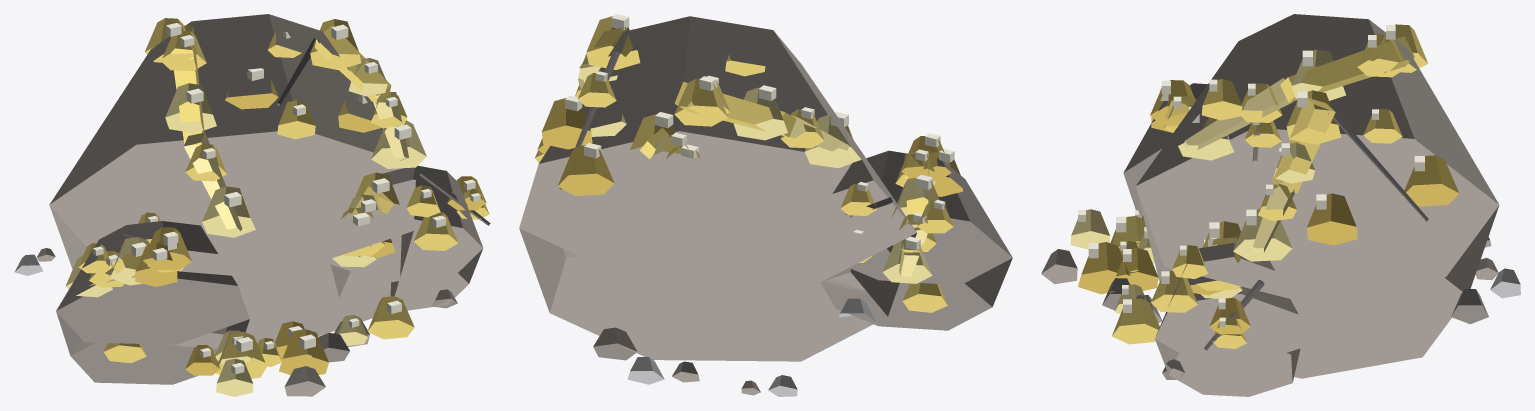
The model's file is gold_1.glb.
The picture shows the model from 3 angles, left to right: view 1: azimuth 30°, elevation 25°; view 2: azimuth 150°, elevation 25°; view 3: azimuth 270°, elevation 25°; orthographic projection. The views are drawn at different scales.
Parts seen in each view (by area): view 1: Boulder#2, Boulder#4, Boulder, Boulder#6, Boulder#3, Boulder#5, Vein#4, Vein, Nugget#8, Nugget#38, Nugget#6, Nugget#4 (+33 smaller); view 2: Boulder#2, Boulder, Boulder#4, Boulder#3, Nugget#12, Nugget#10, Nugget#11, Vein#3, Nugget#8, Nugget#6, Nugget#17, Nugget (+19 smaller); view 3: Boulder#2, Boulder, Boulder#6, Boulder#5, Vein#3, Vein, Nugget#12, Nugget#10, Vein#4, Boulder#4, Nugget#37, Nugget#38 (+26 smaller).
Boxes of the visible parts, x1,y1,x2,y2 form: Boulder#2: (49, 14, 415, 278); Boulder#4: (56, 221, 249, 344); Boulder: (49, 205, 413, 348); Boulder#6: (331, 165, 482, 282); Boulder#3: (56, 311, 249, 384); Boulder#5: (330, 249, 482, 310); Vein#4: (183, 132, 242, 230); Vein: (315, 25, 391, 104); Nugget#8: (202, 186, 255, 237); Nugget#38: (367, 296, 414, 339); Nugget#6: (165, 83, 216, 133); Nugget#4: (371, 120, 426, 168); Boulder#2: (519, 16, 916, 285); Boulder: (519, 228, 916, 361); Boulder#4: (832, 150, 1012, 285); Boulder#3: (820, 258, 1012, 330); Nugget#12: (557, 146, 614, 195); Nugget#10: (541, 98, 592, 149); Nugget#11: (674, 78, 727, 126); Vein#3: (674, 82, 796, 137); Nugget#8: (804, 114, 861, 168); Nugget#6: (733, 87, 787, 140); Nugget#17: (882, 239, 932, 283); Nugget: (586, 16, 640, 69); Boulder#2: (1136, 14, 1499, 302); Boulder: (1136, 188, 1499, 378); Boulder#6: (1155, 243, 1300, 364); Boulder#5: (1155, 339, 1300, 396); Vein#3: (1280, 36, 1414, 102); Vein: (1272, 98, 1335, 193); Nugget#12: (1402, 155, 1459, 206); Nugget#10: (1306, 193, 1357, 245); Vein#4: (1184, 78, 1294, 149); Boulder#4: (1123, 83, 1207, 215); Nugget#37: (1078, 242, 1130, 294); Nugget#38: (1112, 298, 1159, 344).
Size of the model in its own units: 2.84 by 1.55 by 2.6.
